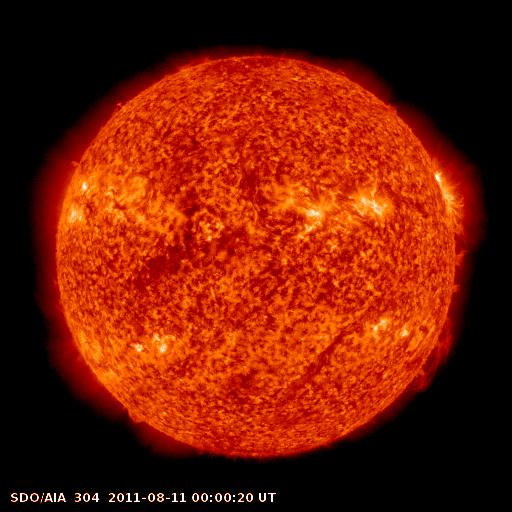prominence: (401, 311, 462, 393), (445, 244, 475, 294), (119, 401, 151, 431)
